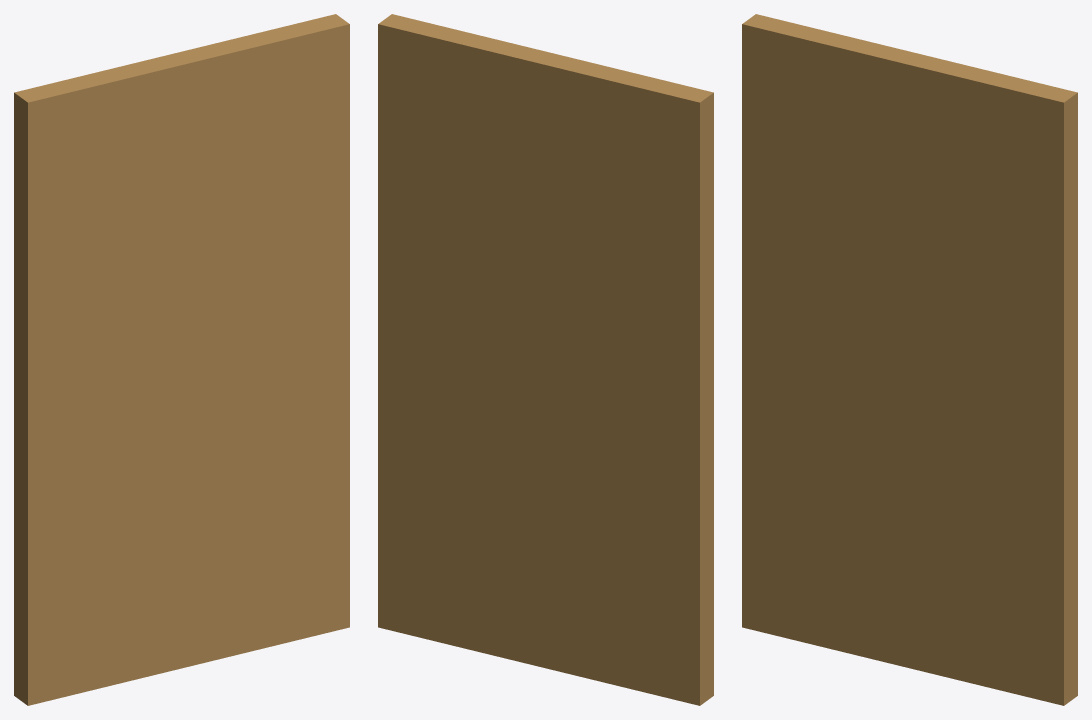
3 views of the same model, side by side, from view 1: azimuth 30°, elevation 25°; view 2: azimuth 150°, elevation 25°; view 3: azimuth 330°, elevation 25° (orthographic).
Visible parts, largest first — view 1: shape; view 2: shape; view 3: shape.
Part boxes in pixels (x1=…): shape: x1=14, y1=14, x2=349, y2=705; shape: x1=378, y1=14, x2=713, y2=705; shape: x1=742, y1=14, x2=1077, y2=705.
Bounding box in the file's own units: 1.34 × 2.4 × 0.1.
